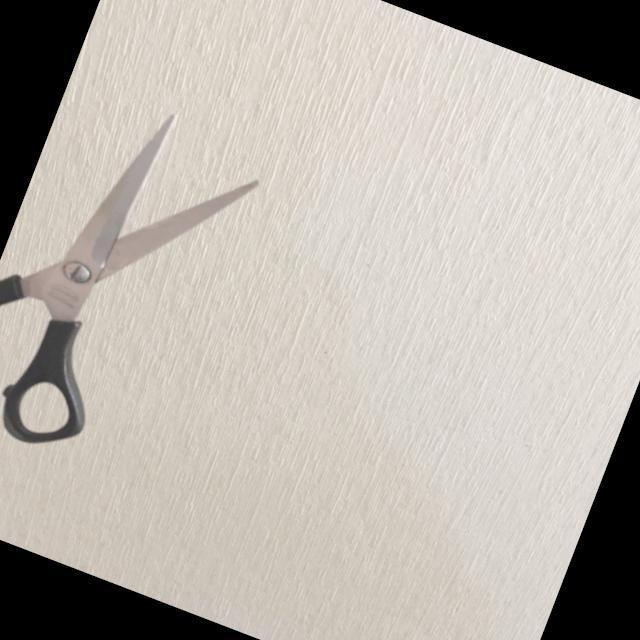scissors: (0, 79, 274, 493)
